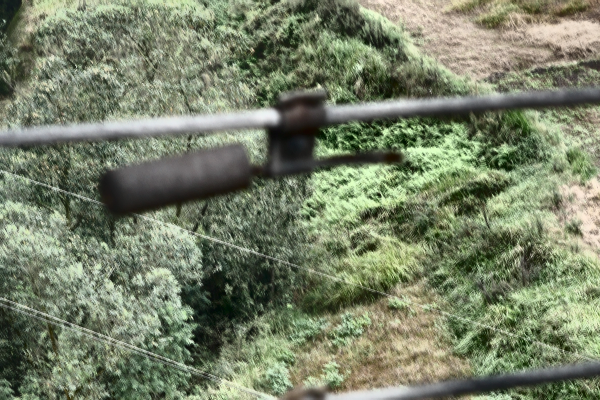damper_defect: (94, 84, 411, 224)
